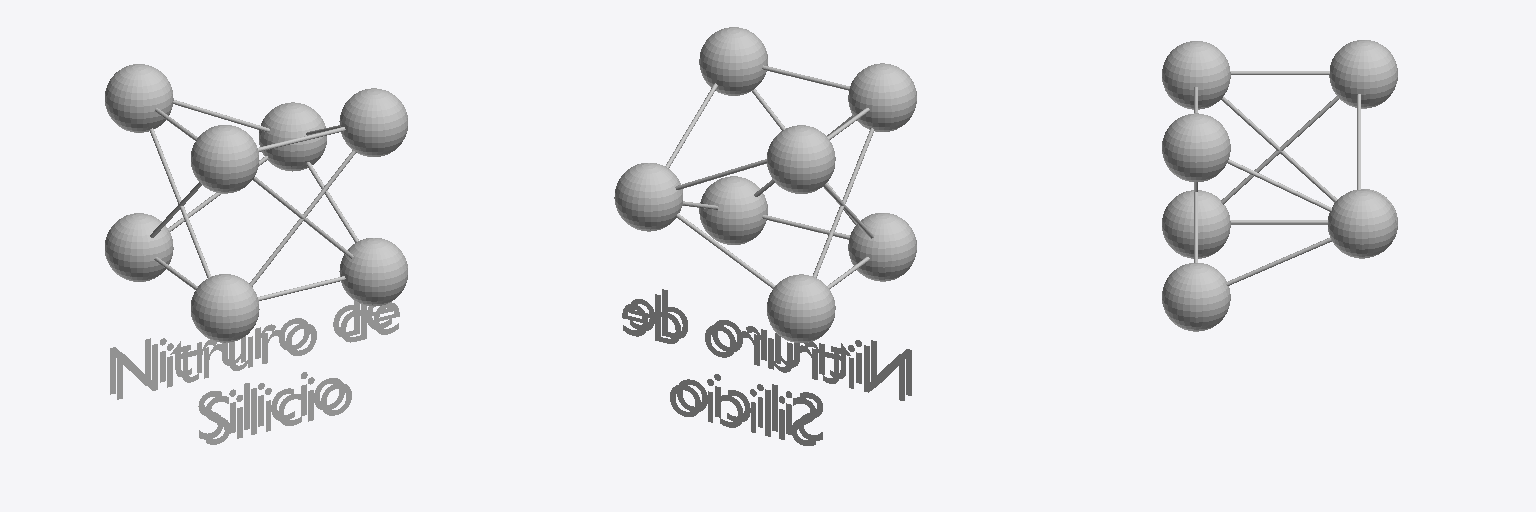
File: nitruro de silicio.obj
3 views of the same model, side by side, from view 1: azimuth 30°, elevation 25°; view 2: azimuth 150°, elevation 25°; view 3: azimuth 270°, elevation 25° (orthographic).
Parts seen in each view (by area): view 1: Text.008_Text.039, Text.007_Text.038, Sphere.228_Sphere.617, Sphere.205_Sphere.615, Sphere.209_Sphere.616, Sphere.230_Sphere.618, Sphere.257_Sphere.620, Sphere.271_Sphere.622, Sphere.250_Sphere.623; view 2: Text.007_Text.038, Text.008_Text.039, Sphere.257_Sphere.620, Sphere.271_Sphere.622, Sphere.250_Sphere.623, Sphere.209_Sphere.616, Sphere.205_Sphere.615, Sphere.230_Sphere.618, Sphere.228_Sphere.617; view 3: Sphere.209_Sphere.616, Sphere.230_Sphere.618, Sphere.250_Sphere.623, Sphere.257_Sphere.620, Sphere.205_Sphere.615, Sphere.228_Sphere.617.
Part boxes in pixels (x1,y1,x2,y2): Text.008_Text.039: (117, 302, 399, 444); Text.007_Text.038: (110, 300, 392, 439); Sphere.228_Sphere.617: (191, 274, 259, 342); Sphere.205_Sphere.615: (191, 125, 258, 193); Sphere.209_Sphere.616: (339, 88, 407, 156); Sphere.230_Sphere.618: (339, 238, 407, 306); Sphere.257_Sphere.620: (105, 64, 173, 132); Sphere.271_Sphere.622: (105, 213, 173, 281); Sphere.250_Sphere.623: (259, 102, 326, 171); Text.007_Text.038: (622, 294, 904, 445); Text.008_Text.039: (629, 289, 911, 440); Sphere.257_Sphere.620: (767, 125, 835, 193); Sphere.271_Sphere.622: (767, 274, 835, 342); Sphere.250_Sphere.623: (614, 163, 682, 231); Sphere.209_Sphere.616: (699, 27, 767, 95); Sphere.205_Sphere.615: (848, 63, 916, 131); Sphere.230_Sphere.618: (699, 176, 767, 244); Sphere.228_Sphere.617: (848, 213, 916, 281); Sphere.209_Sphere.616: (1162, 113, 1230, 181); Sphere.230_Sphere.618: (1162, 263, 1230, 331); Sphere.250_Sphere.623: (1328, 190, 1396, 258); Sphere.257_Sphere.620: (1329, 40, 1397, 108); Sphere.205_Sphere.615: (1162, 41, 1230, 109); Sphere.228_Sphere.617: (1162, 190, 1230, 258).
Size of the model in its own units: 5.06 by 6.03 by 3.66.